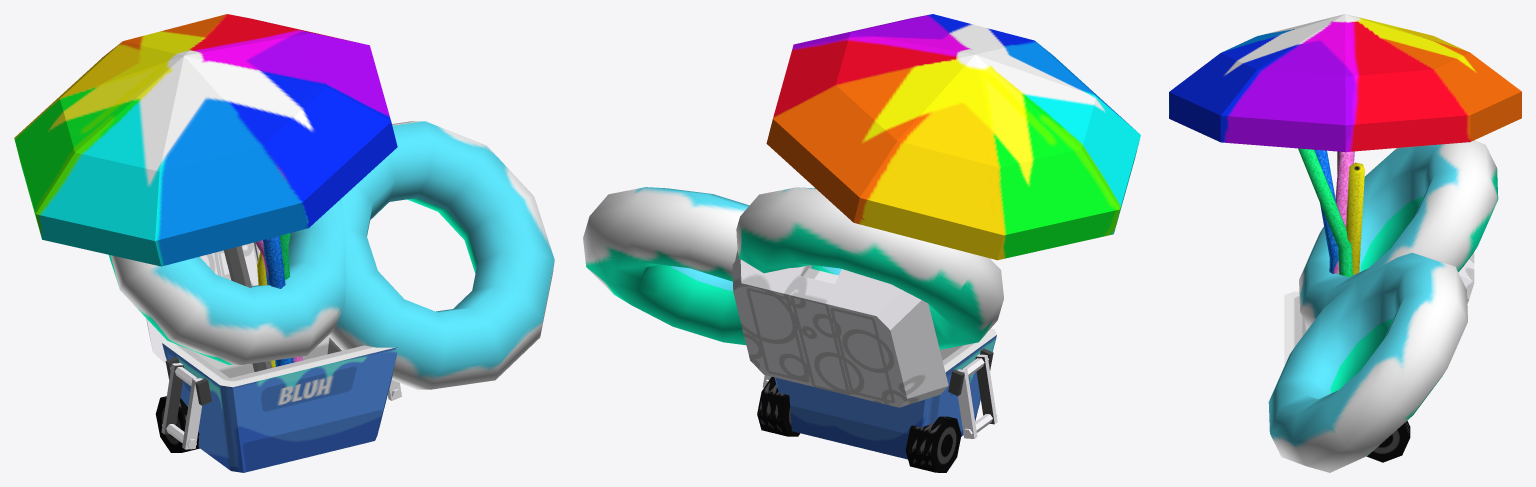
File: coolerC.fbx
The picture shows the model from 3 angles, left to right: view 1: azimuth 30°, elevation 25°; view 2: azimuth 150°, elevation 25°; view 3: azimuth 270°, elevation 25°; orthographic projection. The views are drawn at different scales.
Visible parts, largest first — view 1: umbrella.001|umbrella_low|Dupli|, tubeDouble.001|tubeDouble|Dupli|, coolerOpen.003|coolerBase|Dupli|, coolerOpen.003|handle|Dupli|0.2, poolNoodles.002|noodles|Dupli|, coolerOpen.003|coolerLid|Dupli|0.1, coolerOpen.003|wheels|Dupli|3; view 2: umbrella.001|umbrella_low|Dupli|, tubeDouble.001|tubeDouble|Dupli|, coolerOpen.003|coolerLid|Dupli|0.1, coolerOpen.003|coolerBase|Dupli|, coolerOpen.003|wheels|Dupli|3, coolerOpen.003|handle|Dupli|0.2; view 3: tubeDouble.001|tubeDouble|Dupli|, umbrella.001|umbrella_low|Dupli|, poolNoodles.002|noodles|Dupli|, coolerOpen.003|coolerBase|Dupli|, coolerOpen.003|wheels|Dupli|3, coolerOpen.003|coolerLid|Dupli|0.1.
Boxes of the visible parts, x1=… form: umbrella.001|umbrella_low|Dupli|: x1=14, y1=14, x2=397, y2=371; tubeDouble.001|tubeDouble|Dupli|: x1=108, y1=121, x2=554, y2=389; coolerOpen.003|coolerBase|Dupli|: x1=162, y1=336, x2=397, y2=472; coolerOpen.003|handle|Dupli|0.2: x1=161, y1=363, x2=202, y2=449; poolNoodles.002|noodles|Dupli|: x1=255, y1=233, x2=302, y2=367; coolerOpen.003|coolerLid|Dupli|0.1: x1=146, y1=242, x2=260, y2=364; coolerOpen.003|wheels|Dupli|3: x1=155, y1=396, x2=199, y2=452; umbrella.001|umbrella_low|Dupli|: x1=766, y1=14, x2=1140, y2=260; tubeDouble.001|tubeDouble|Dupli|: x1=583, y1=187, x2=1003, y2=349; coolerOpen.003|coolerLid|Dupli|0.1: x1=732, y1=250, x2=948, y2=407; coolerOpen.003|coolerBase|Dupli|: x1=774, y1=328, x2=996, y2=459; coolerOpen.003|wheels|Dupli|3: x1=757, y1=377, x2=961, y2=472; coolerOpen.003|handle|Dupli|0.2: x1=957, y1=354, x2=997, y2=438; tubeDouble.001|tubeDouble|Dupli|: x1=1268, y1=140, x2=1498, y2=472; umbrella.001|umbrella_low|Dupli|: x1=1169, y1=14, x2=1521, y2=173; poolNoodles.002|noodles|Dupli|: x1=1298, y1=148, x2=1364, y2=277; coolerOpen.003|coolerBase|Dupli|: x1=1284, y1=291, x2=1308, y2=365; coolerOpen.003|wheels|Dupli|3: x1=1366, y1=420, x2=1410, y2=462; coolerOpen.003|coolerLid|Dupli|0.1: x1=1458, y1=252, x2=1474, y2=303.
Bounding box in the file's own units: 576 × 437 × 380.
